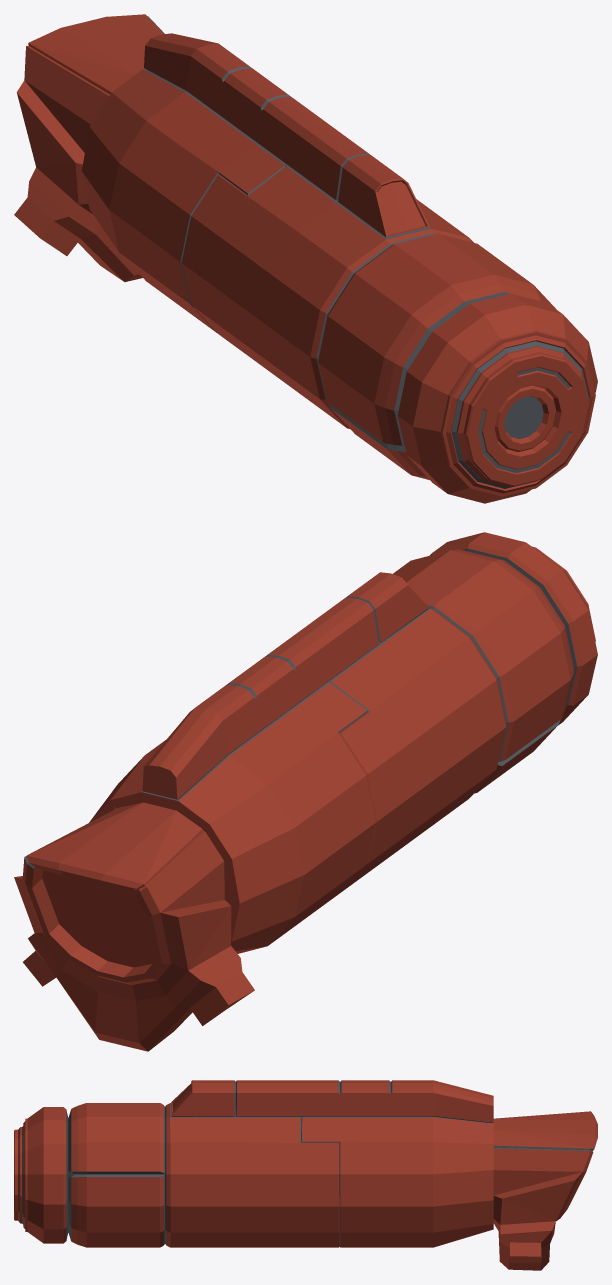
Rendered from Personal_Vehicle_03_Body_Red.fbx.
The picture shows the model from 3 angles, top to bottom: view 1: azimuth 30°, elevation 25°; view 2: azimuth 150°, elevation 25°; view 3: azimuth 270°, elevation 25°; orthographic projection. The views are drawn at different scales.
Parts seen in each view (by area): view 1: Personal_Vehicle_03_Body_Red; view 2: Personal_Vehicle_03_Body_Red; view 3: Personal_Vehicle_03_Body_Red.
Boxes of the visible parts, x1,y1,x2,y2 form: Personal_Vehicle_03_Body_Red: [14, 14, 597, 503]; Personal_Vehicle_03_Body_Red: [14, 532, 597, 1051]; Personal_Vehicle_03_Body_Red: [14, 1080, 597, 1270].
Bounding box in the file's own units: 78.2 × 98.69 × 290.
2 materials, 2 textured.
